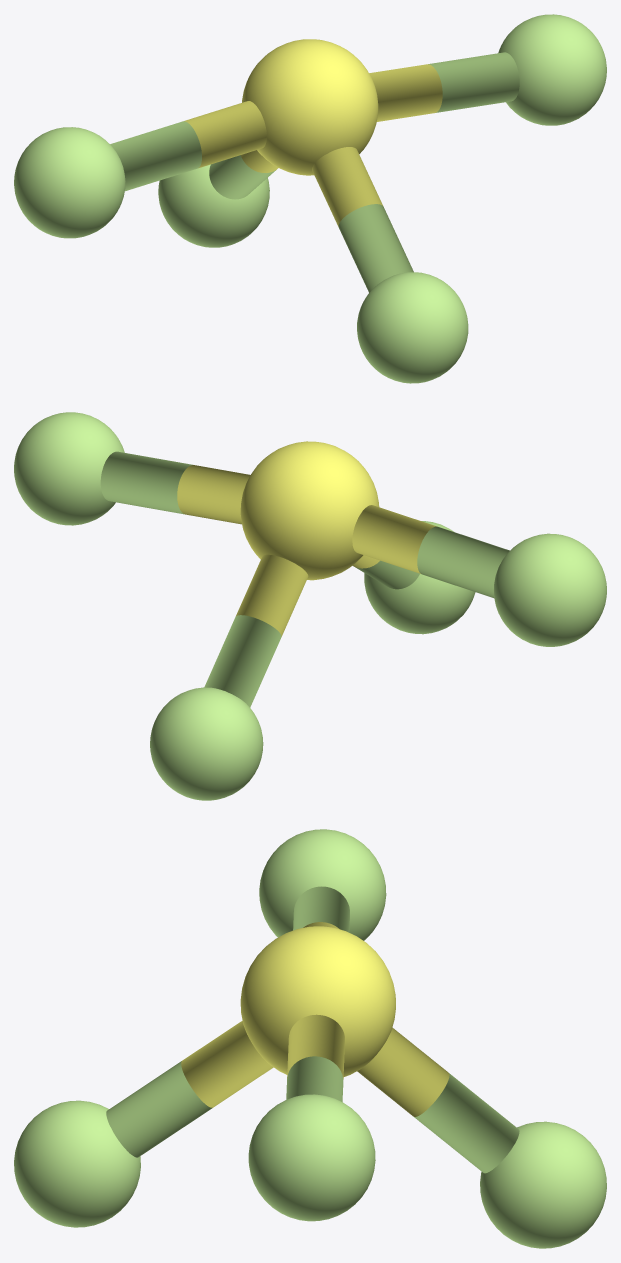
Rendered from Sulfur Tetrafluoride.fbx.
3 views of the same model, one above another, from view 1: azimuth 30°, elevation 25°; view 2: azimuth 150°, elevation 25°; view 3: azimuth 270°, elevation 25° (orthographic). The views are drawn at different scales.
Visible parts, largest first — view 1: F2_Atom; view 2: F2_Atom; view 3: F2_Atom.
Part boxes in pixels (<box>): F2_Atom: <box>14,14,606,383</box>; F2_Atom: <box>14,412,606,800</box>; F2_Atom: <box>14,829,606,1248</box>.
Size of the model in its own units: 262 by 118 by 206.
